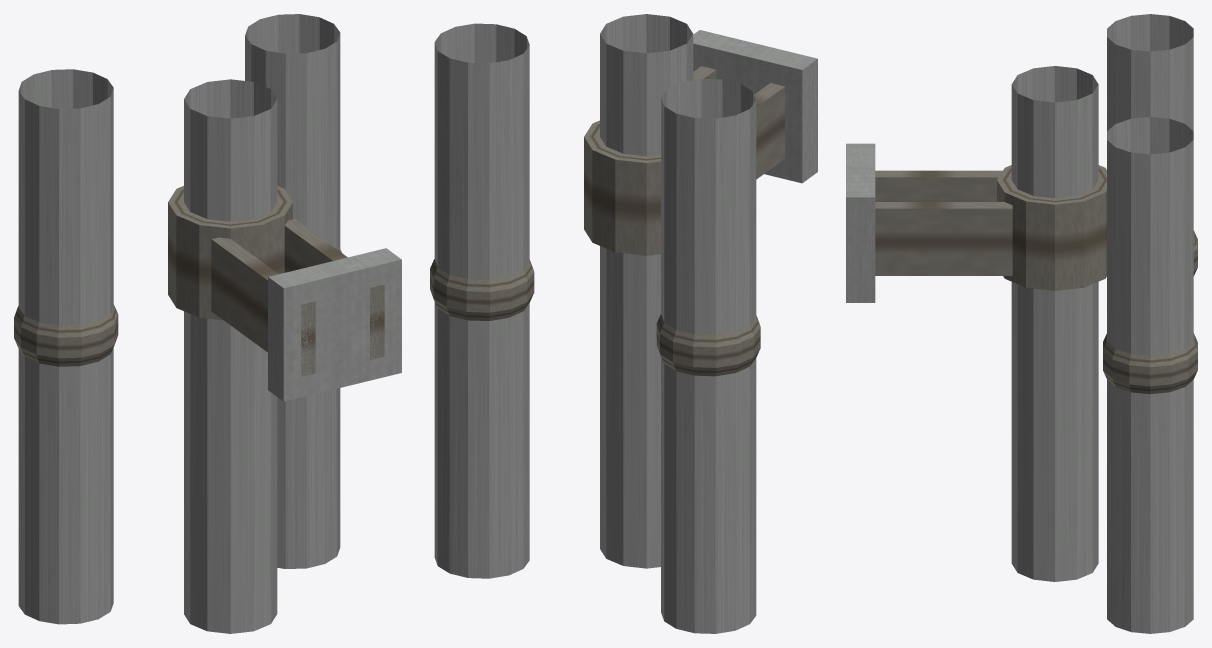
Rendered from cell_3.obj.
The picture shows the model from 3 angles, left to right: view 1: azimuth 30°, elevation 25°; view 2: azimuth 150°, elevation 25°; view 3: azimuth 270°, elevation 25°; orthographic projection. The views are drawn at different scales.
Size of the model in its own units: 0.644 by 1 by 0.6647.
